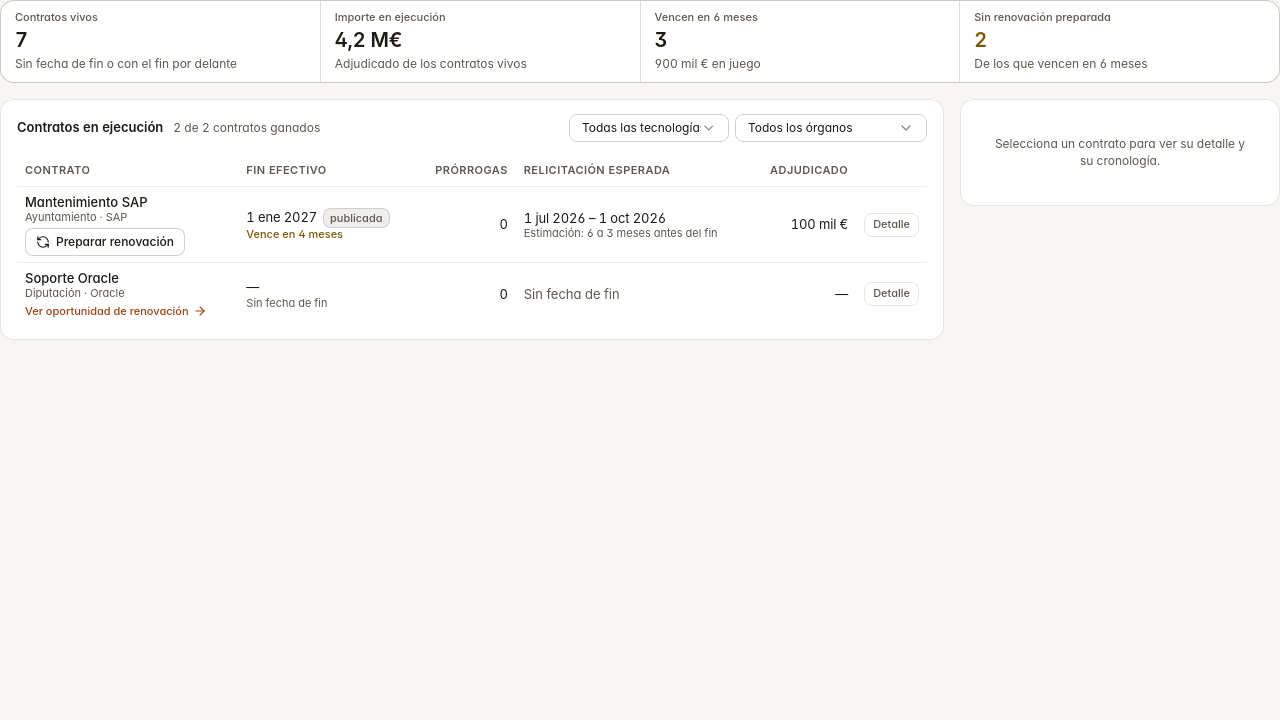
Scenario: CarteraView · inspector › al elegir un contrato enseña su detalle y pide su cronología
The width and height of the screenshot is (1280, 720).
Check: the text "Selecciona un contrato para ver su detalle y su cronología." is shown, box [993, 136, 1247, 169]
Click the button with aria-label "Ver detalle de Mantenimiento SAP". click: (892, 225)
box: [864, 213, 919, 237]
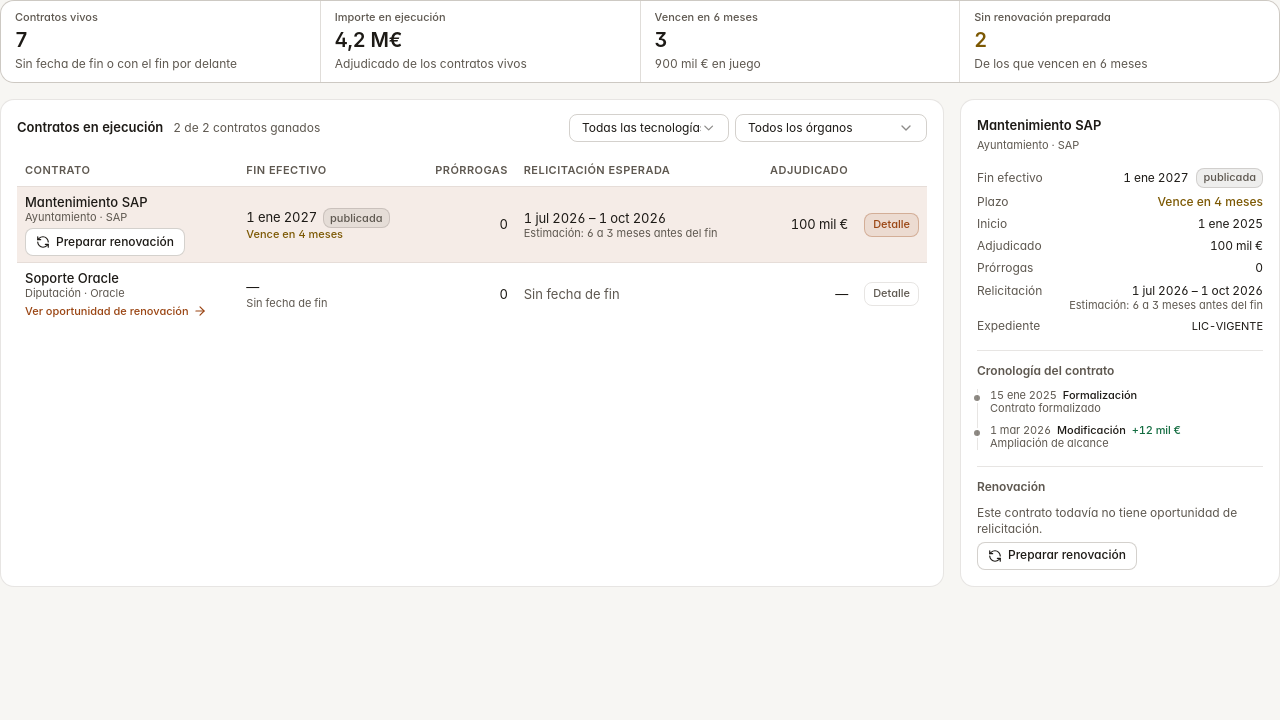
Check: the heading "Mantenimiento SAP" is shown, box [977, 117, 1101, 133]
Check: the 1st text "1 ene 2027" is shown, box [1123, 170, 1188, 186]
Check: the text "1 ene 2025" is shown, box [1198, 216, 1263, 232]
